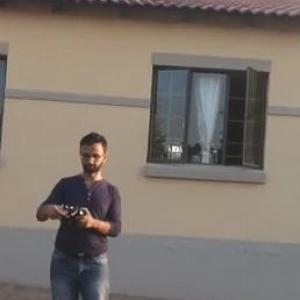follow: (29, 124, 128, 299)
